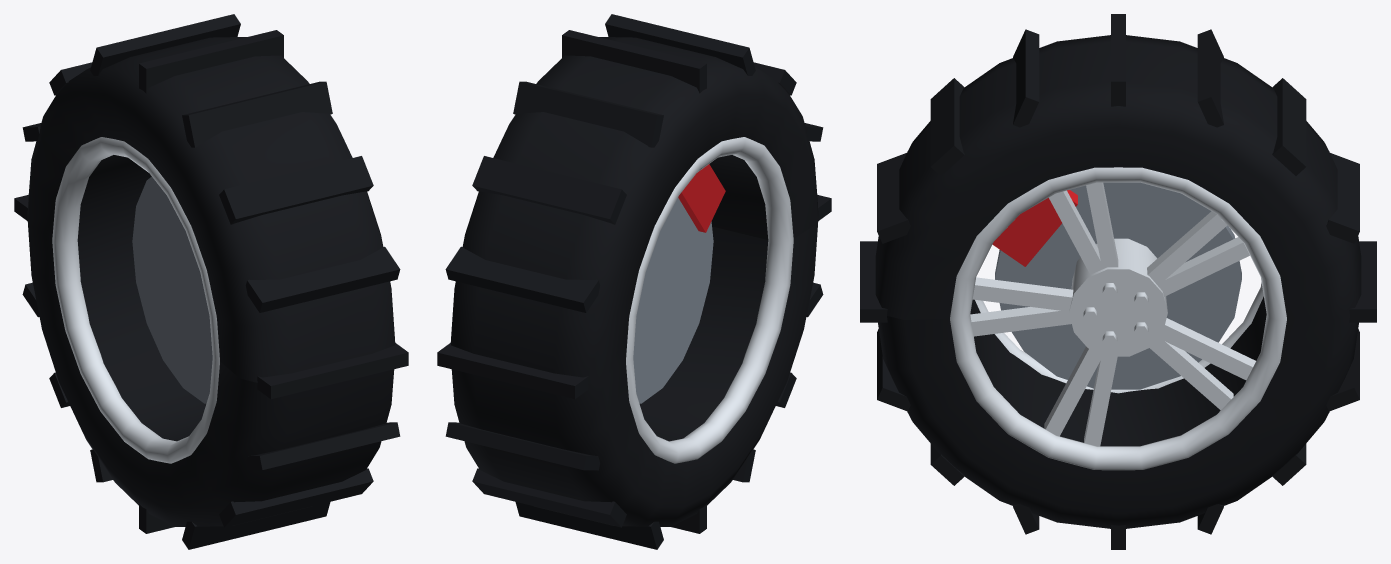
Rendered from car_wheel.glb.
3 renders of one model, left to right at view 1: azimuth 30°, elevation 25°; view 2: azimuth 150°, elevation 25°; view 3: azimuth 270°, elevation 25°, orthographic.
Parts seen in each view (by area): view 1: car_wheel; view 2: car_wheel; view 3: car_wheel.
Boxes of the visible parts, x1,y1,x2,y2 form: car_wheel: (14,14,408,549); car_wheel: (437,14,831,549); car_wheel: (860,14,1376,549).
Size of the model in its own units: 0.27 by 0.774 by 0.774.
